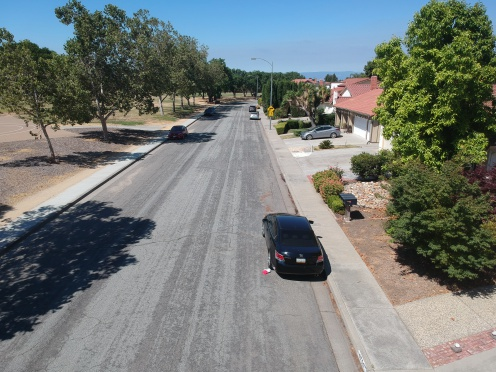plastic bag: (258, 265, 273, 278)
